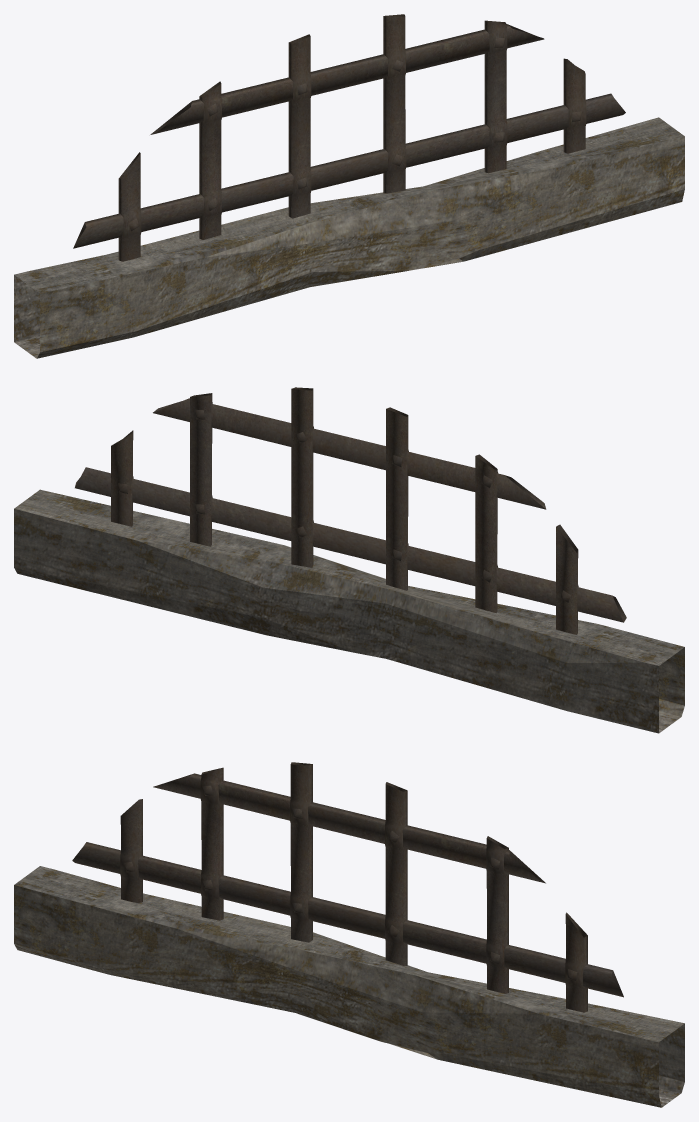
Rendered from gate_iron_2U.fbx.
3 renders of one model, top to bottom at view 1: azimuth 30°, elevation 25°; view 2: azimuth 150°, elevation 25°; view 3: azimuth 330°, elevation 25°, orthographic.
Visible parts, largest first — view 1: gate_iron_2U; view 2: gate_iron_2U; view 3: gate_iron_2U.
Boxes of the visible parts, bbox=[...] form: gate_iron_2U: bbox=[14, 14, 684, 358]; gate_iron_2U: bbox=[14, 387, 684, 733]; gate_iron_2U: bbox=[14, 762, 684, 1107].
Size of the model in its own units: 200 by 74.38 by 15.44.
